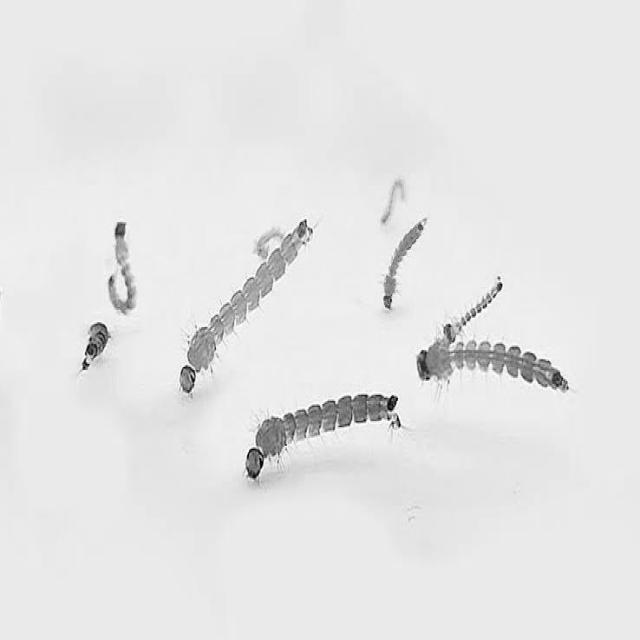larvas: (180, 222, 312, 393), (188, 220, 312, 371), (245, 396, 400, 480), (416, 338, 569, 389), (444, 276, 502, 345), (384, 219, 428, 309), (109, 222, 136, 313), (82, 322, 110, 371), (380, 178, 406, 225), (254, 227, 282, 260)
